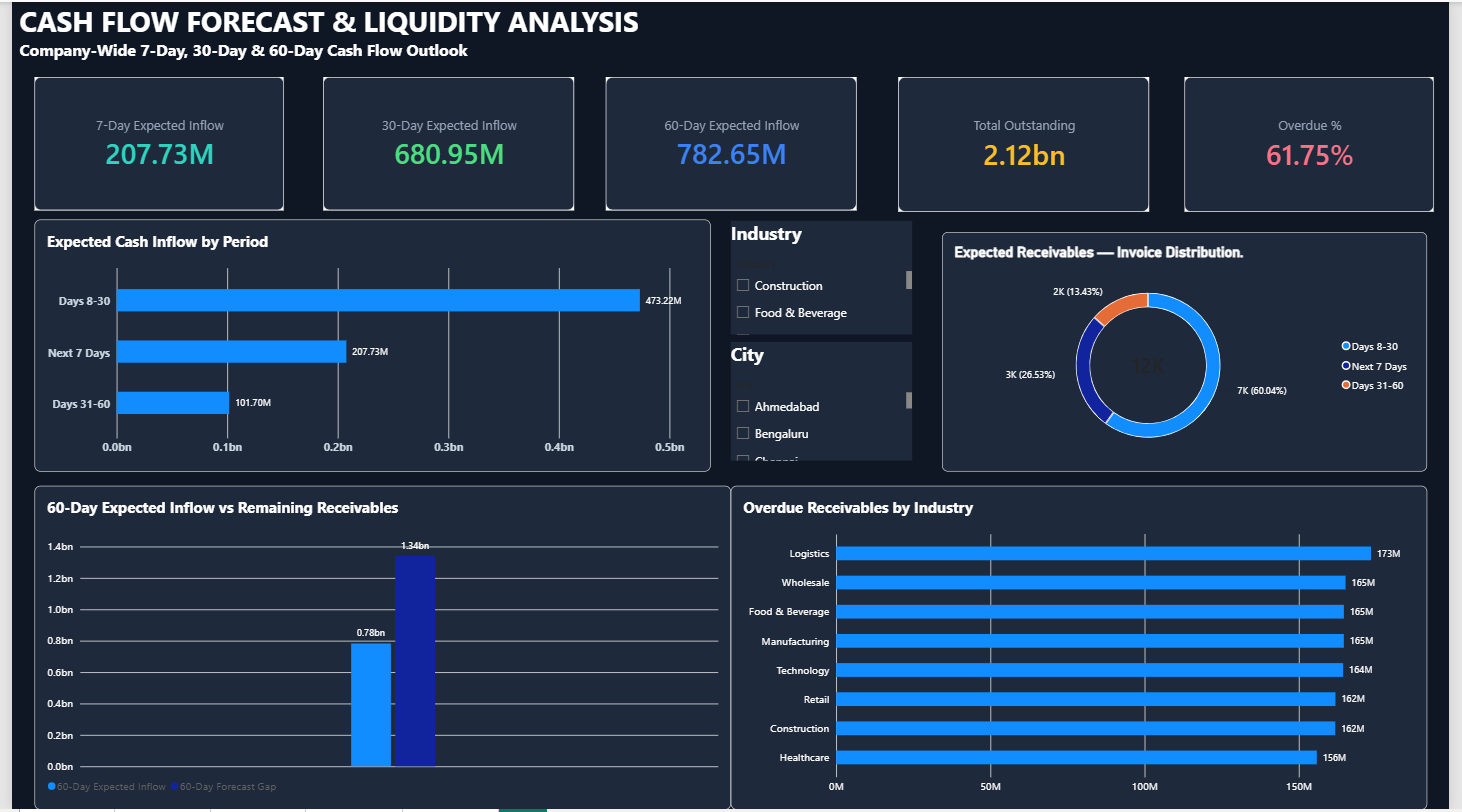

What the dashboard file says about the page in this screenshot:
{"tool":"powerbi","page":{"name":"Page 4","canvas":[1920,1080],"ordinal":3},"visuals":[{"type":"textbox","box":[10.3,0,1280.3,185.2],"z":0},{"type":"cardVisual","fields":{"Data":["sme_working_capital customers.Total Outstanding"]},"box":[1183.3,100,335,180],"z":1000},{"type":"cardVisual","fields":{"Data":["sme_working_capital vw_cashflow_outlook.30-Day Expected Inflow"]},"box":[415,100,335,178.3],"z":2000},{"type":"cardVisual","fields":{"Data":["Calendar.Overdue %"]},"box":[1566.7,100,333.3,180],"z":3000},{"type":"cardVisual","fields":{"Data":["sme_working_capital vw_cashflow_outlook.7-Day Expected Inflow"]},"box":[30,100,333.3,178.3],"z":4000},{"type":"cardVisual","fields":{"Data":["sme_working_capital vw_cashflow_outlook.60-Day Expected Inflow"]},"box":[793.3,100,335,178.3],"z":5000},{"type":"clusteredBarChart","title":"Expected Cash Inflow by Period","fields":{"Category":["sme_working_capital vw_cashflow_outlook.cashflow_period"],"Y":["Sum(sme_working_capital vw_cashflow_outlook.expected_receivables)"]},"box":[30.4,291.3,902.8,336.6],"z":6000},{"type":"slicer","title":"City","fields":{"Values":["sme_working_capital customers.city"]},"box":[960,454,242,158],"z":7000},{"type":"slicer","title":"Industry","fields":{"Values":["sme_working_capital customers.industry"]},"box":[960,292,242,152],"z":8000},{"type":"clusteredBarChart","title":"Overdue Receivables by Industry","fields":{"Category":["sme_working_capital customers.industry"],"Y":["sme_working_capital customers.Overdue by Industry"]},"box":[960.9,645.7,930.4,432.6],"z":9000},{"type":"clusteredColumnChart","title":"60-Day Expected Inflow vs Remaining Receivables","fields":{"Y":["sme_working_capital vw_cashflow_outlook.60-Day Expected Inflow","sme_working_capital vw_cashflow_outlook.60-Day Forecast Gap"]},"box":[30,646,930.4,432.6],"z":10000},{"type":"donutChart","title":"Expected Receivables — Invoice Distribution.","fields":{"Category":["sme_working_capital vw_cashflow_outlook.cashflow_period"],"Y":["Sum(sme_working_capital vw_cashflow_outlook.invoice_count)"]},"box":[1242,308,648,320],"z":11000}]}

Visuals, with their boxes in screenshot pixels (x1, y1, x2, y2), scaled from the page's 1920x1080 canvas onto the 1462x812 screenshot:
textbox: box(8, 0, 983, 139)
cardVisual - sme_working_capital customers.Total Outstanding: box(901, 75, 1156, 211)
cardVisual - sme_working_capital vw_cashflow_outlook.30-Day Expected Inflow: box(316, 75, 571, 209)
cardVisual - Calendar.Overdue %: box(1193, 75, 1447, 211)
cardVisual - sme_working_capital vw_cashflow_outlook.7-Day Expected Inflow: box(23, 75, 277, 209)
cardVisual - sme_working_capital vw_cashflow_outlook.60-Day Expected Inflow: box(604, 75, 859, 209)
"Expected Cash Inflow by Period" clusteredBarChart: box(23, 219, 711, 472)
"City" slicer: box(731, 341, 915, 460)
"Industry" slicer: box(731, 220, 915, 334)
"Overdue Receivables by Industry" clusteredBarChart: box(732, 485, 1440, 811)
"60-Day Expected Inflow vs Remaining Receivables" clusteredColumnChart: box(23, 486, 731, 811)
"Expected Receivables — Invoice Distribution." donutChart: box(946, 232, 1439, 472)
